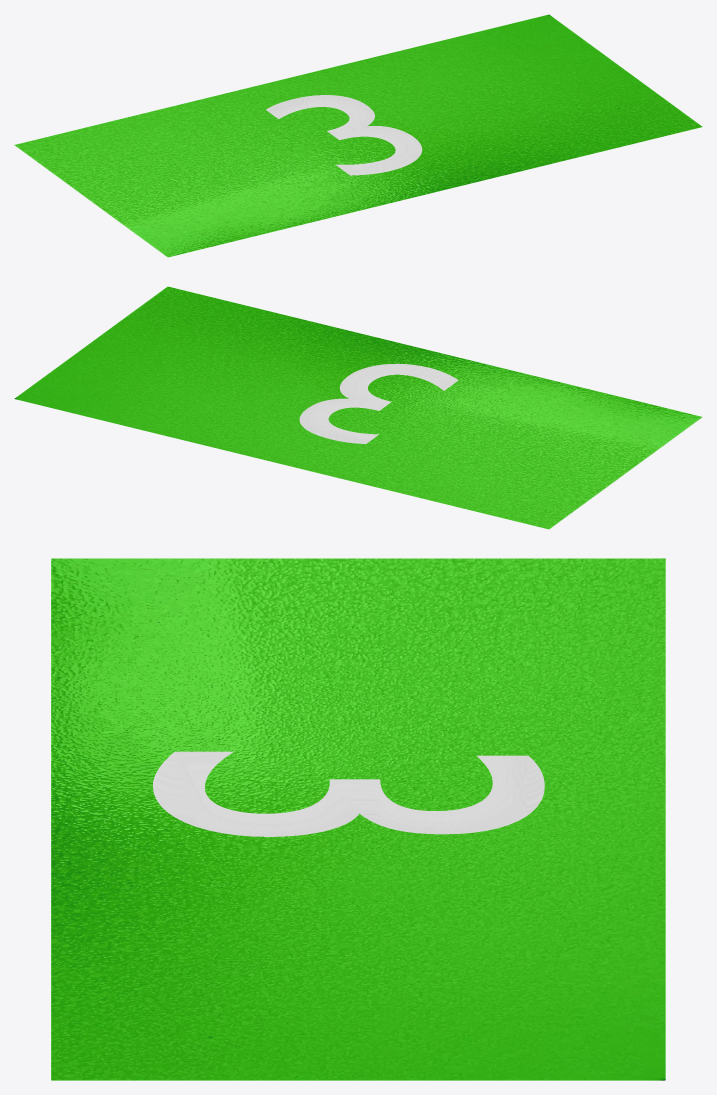
File: greenC.obj
3 renders of one model, top to bottom at view 1: azimuth 30°, elevation 25°; view 2: azimuth 150°, elevation 25°; view 3: azimuth 270°, elevation 25°, orthographic. The views are drawn at different scales.
Parts seen in each view (by area): view 1: Plate3_Plane.006, Clue3_Text.001; view 2: Plate3_Plane.006, Clue3_Text.001; view 3: Plate3_Plane.006, Clue3_Text.001.
Boxes of the visible parts, box(x1,y1,x2,y2) form: Plate3_Plane.006: box(14, 14, 702, 257); Clue3_Text.001: box(266, 95, 422, 175); Plate3_Plane.006: box(14, 286, 702, 529); Clue3_Text.001: box(299, 363, 458, 443); Plate3_Plane.006: box(51, 558, 665, 1080); Clue3_Text.001: box(153, 751, 544, 836).
Size of the model in its own units: 0.2175 by 0.00285 by 0.1082.
